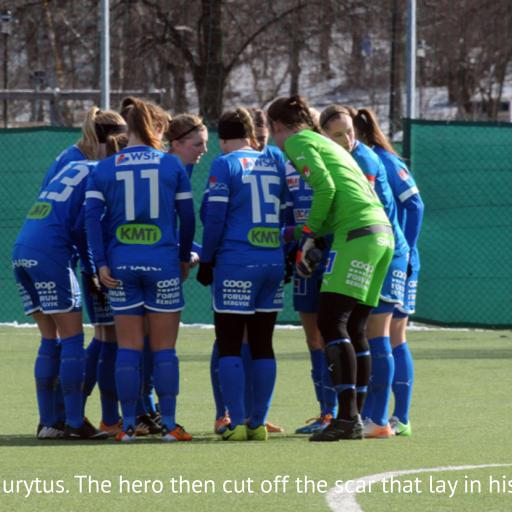PT Sans: (0, 475, 512, 498)
